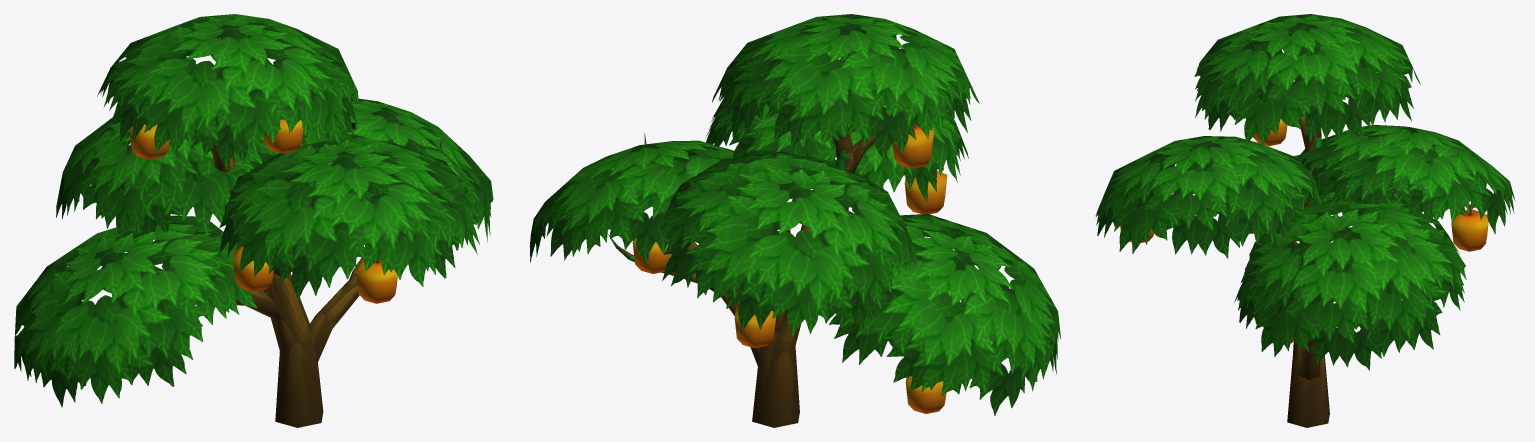
File: AppleTree_3.FBX
3 renders of one model, left to right at view 1: azimuth 30°, elevation 25°; view 2: azimuth 150°, elevation 25°; view 3: azimuth 270°, elevation 25°, orthographic. The views are drawn at different scales.
Parts seen in each view (by area): view 1: AppleTree_3; view 2: AppleTree_3; view 3: AppleTree_3.
Part boxes in pixels (box(x1,y1,x2,y2)): AppleTree_3: box(14, 14, 493, 427); AppleTree_3: box(529, 14, 1060, 427); AppleTree_3: box(1095, 14, 1515, 427).
Size of the model in its own units: 360 by 297 by 320.
